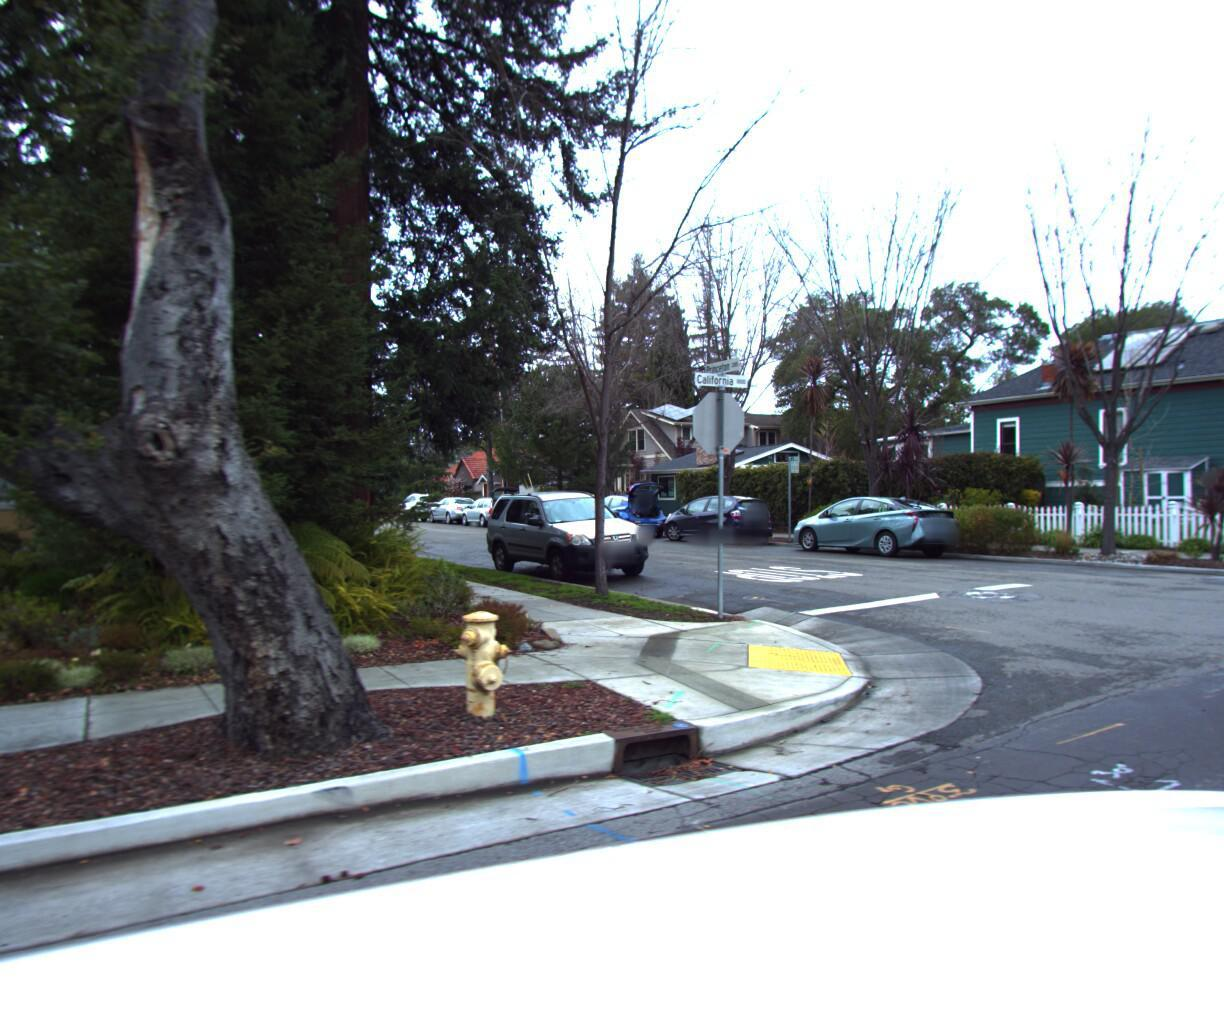car: (475, 490, 669, 598), (776, 499, 971, 571), (659, 500, 779, 554), (573, 501, 673, 548), (460, 500, 523, 538), (394, 499, 449, 532), (426, 504, 486, 534)
